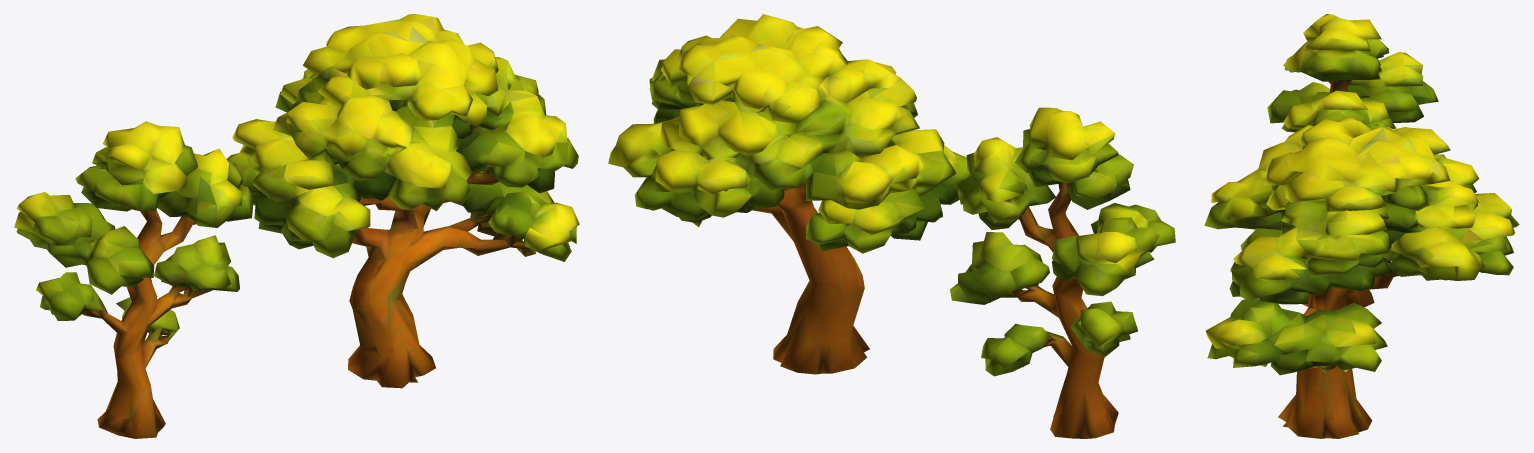
Rendered from arvores_par.glb.
3 renders of one model, left to right at view 1: azimuth 30°, elevation 25°; view 2: azimuth 150°, elevation 25°; view 3: azimuth 270°, elevation 25°, orthographic. The views are drawn at different scales.
Parts seen in each view (by area): view 1: Arvores_Par; view 2: Arvores_Par; view 3: Arvores_Par.
Part boxes in pixels (x1,y1,x2,y2): Arvores_Par: (14, 14, 579, 438); Arvores_Par: (608, 14, 1175, 438); Arvores_Par: (1204, 14, 1519, 438).
Bounding box in the file's own units: 9.86 × 6 × 5.59.
Materials: 1 (1 with a texture image).
